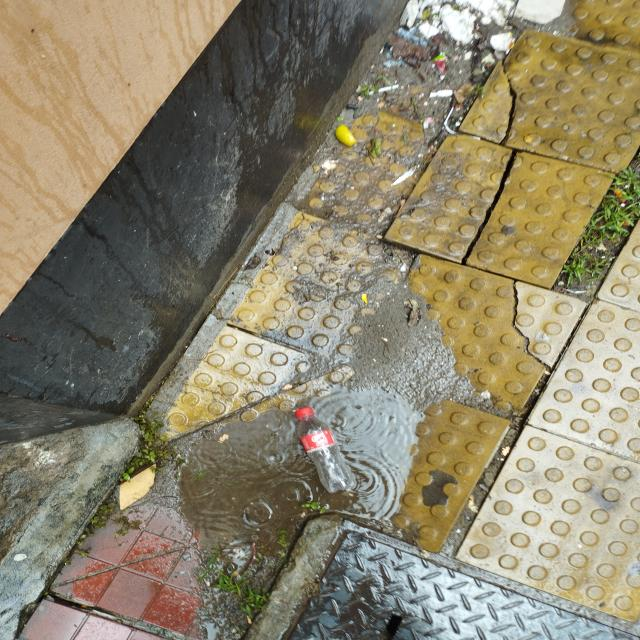plastic: (292, 408, 363, 493)
